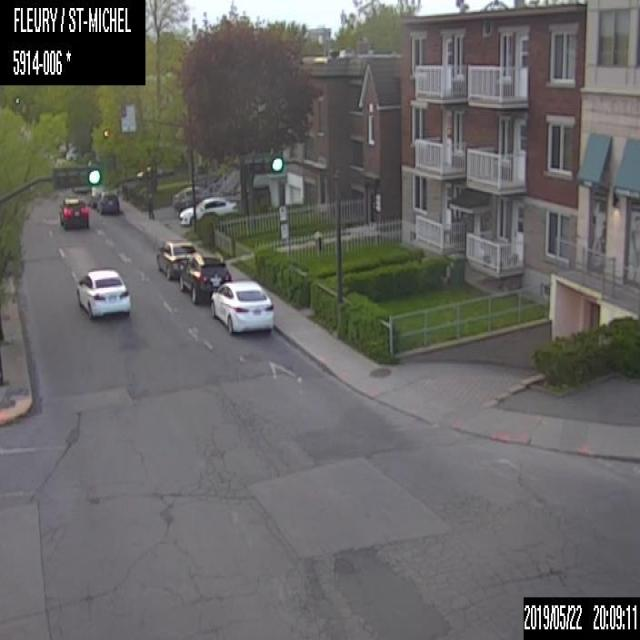pedestrian: (146, 189, 155, 219)
vehicle: (209, 276, 275, 336), (178, 248, 233, 306), (75, 268, 131, 319), (154, 238, 200, 283), (178, 194, 238, 227), (56, 195, 91, 231), (172, 183, 210, 209), (96, 190, 117, 214)
